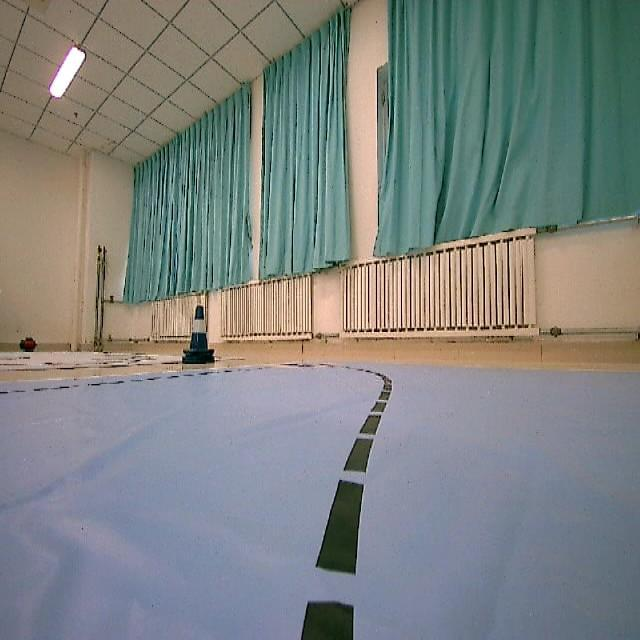obstacle: (172, 301, 220, 376)
